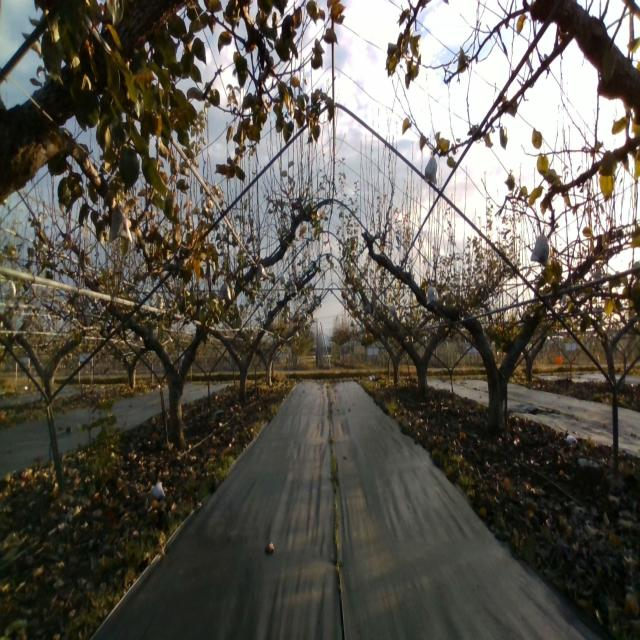pearbags: (109, 199, 132, 245), (530, 228, 550, 268), (424, 152, 438, 185), (218, 278, 233, 302), (426, 285, 439, 306), (256, 262, 267, 284)
